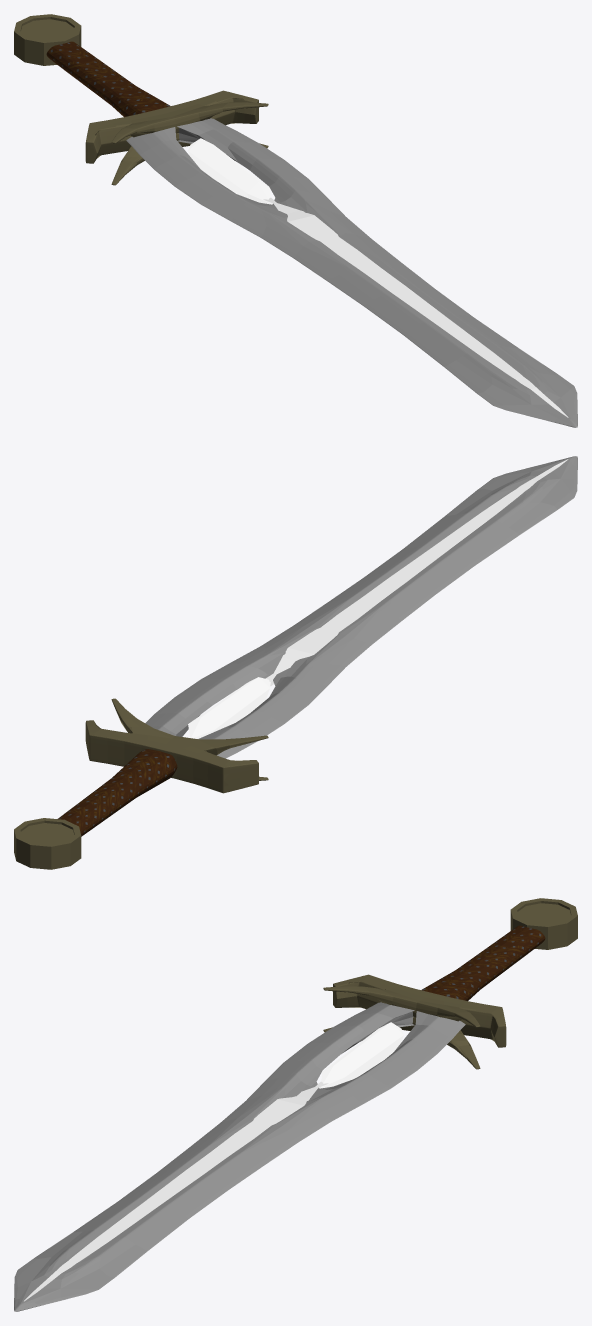
File: Sword_subdivided_textured1.glb
3 renders of one model, top to bottom at view 1: azimuth 30°, elevation 25°; view 2: azimuth 150°, elevation 25°; view 3: azimuth 330°, elevation 25°, orthographic.
Visible parts, largest first — view 1: Blade.001, Guard.001, Fluid.001, Handle.001, Pommel.001, Crystal.001; view 2: Blade.001, Guard.001, Fluid.001, Handle.001, Pommel.001, Crystal.001; view 3: Blade.001, Guard.001, Fluid.001, Handle.001, Pommel.001, Crystal.001.
Part boxes in pixels (x1,y1,x2,y2): Blade.001: (126,118,577,427); Guard.001: (85,90,268,185); Fluid.001: (263,197,568,417); Handle.001: (46,41,170,116); Pommel.001: (14,14,81,65); Crystal.001: (188,138,271,203); Blade.001: (145,456,577,758); Guard.001: (85,698,268,793); Fluid.001: (265,459,568,686); Handle.001: (58,749,177,836); Pommel.001: (14,818,81,869); Crystal.001: (188,677,270,738); Blade.001: (14,1002,465,1311); Guard.001: (323,974,506,1069); Fluid.001: (24,1081,328,1301); Handle.001: (421,925,545,1000); Pommel.001: (510,898,577,949); Crystal.001: (320,1022,403,1087).
Bounding box in the file's own units: 1.29 × 0.3086 × 7.05.
5 materials, 3 textured.
